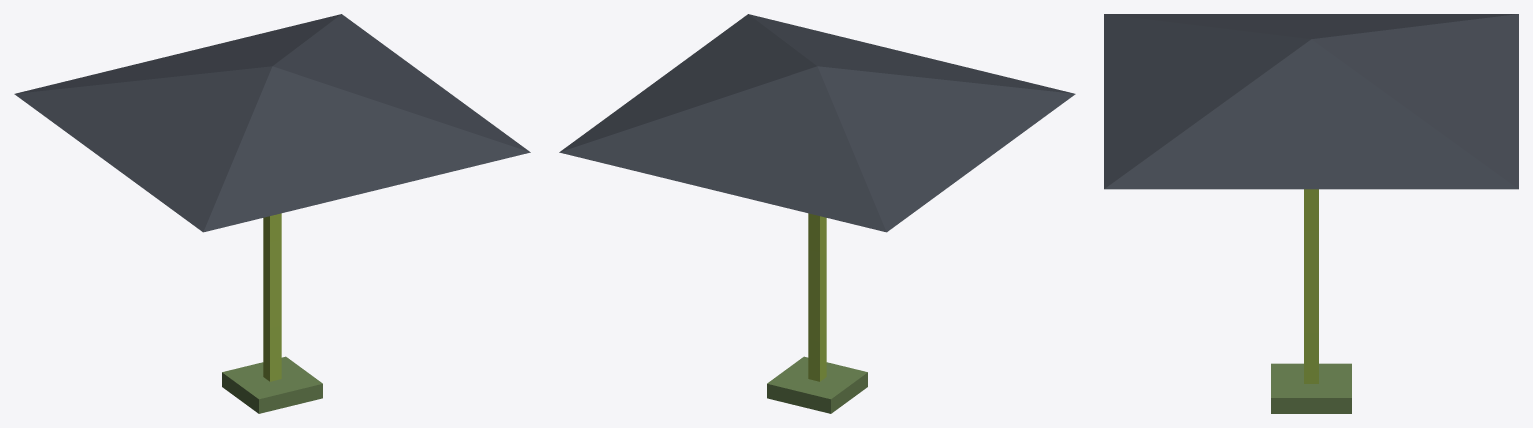
File: Umbrella_01.fbx
3 views of the same model, side by side, from view 1: azimuth 30°, elevation 25°; view 2: azimuth 150°, elevation 25°; view 3: azimuth 270°, elevation 25° (orthographic). The views are drawn at different scales.
Parts seen in each view (by area): view 1: Umbrella_01; view 2: Umbrella_01; view 3: Umbrella_01.
Boxes of the visible parts, box(x1,y1,x2,y2) form: Umbrella_01: box(14, 14, 530, 413); Umbrella_01: box(559, 14, 1075, 413); Umbrella_01: box(1104, 14, 1518, 413).
Size of the model in its own units: 3 by 2.85 by 3.
